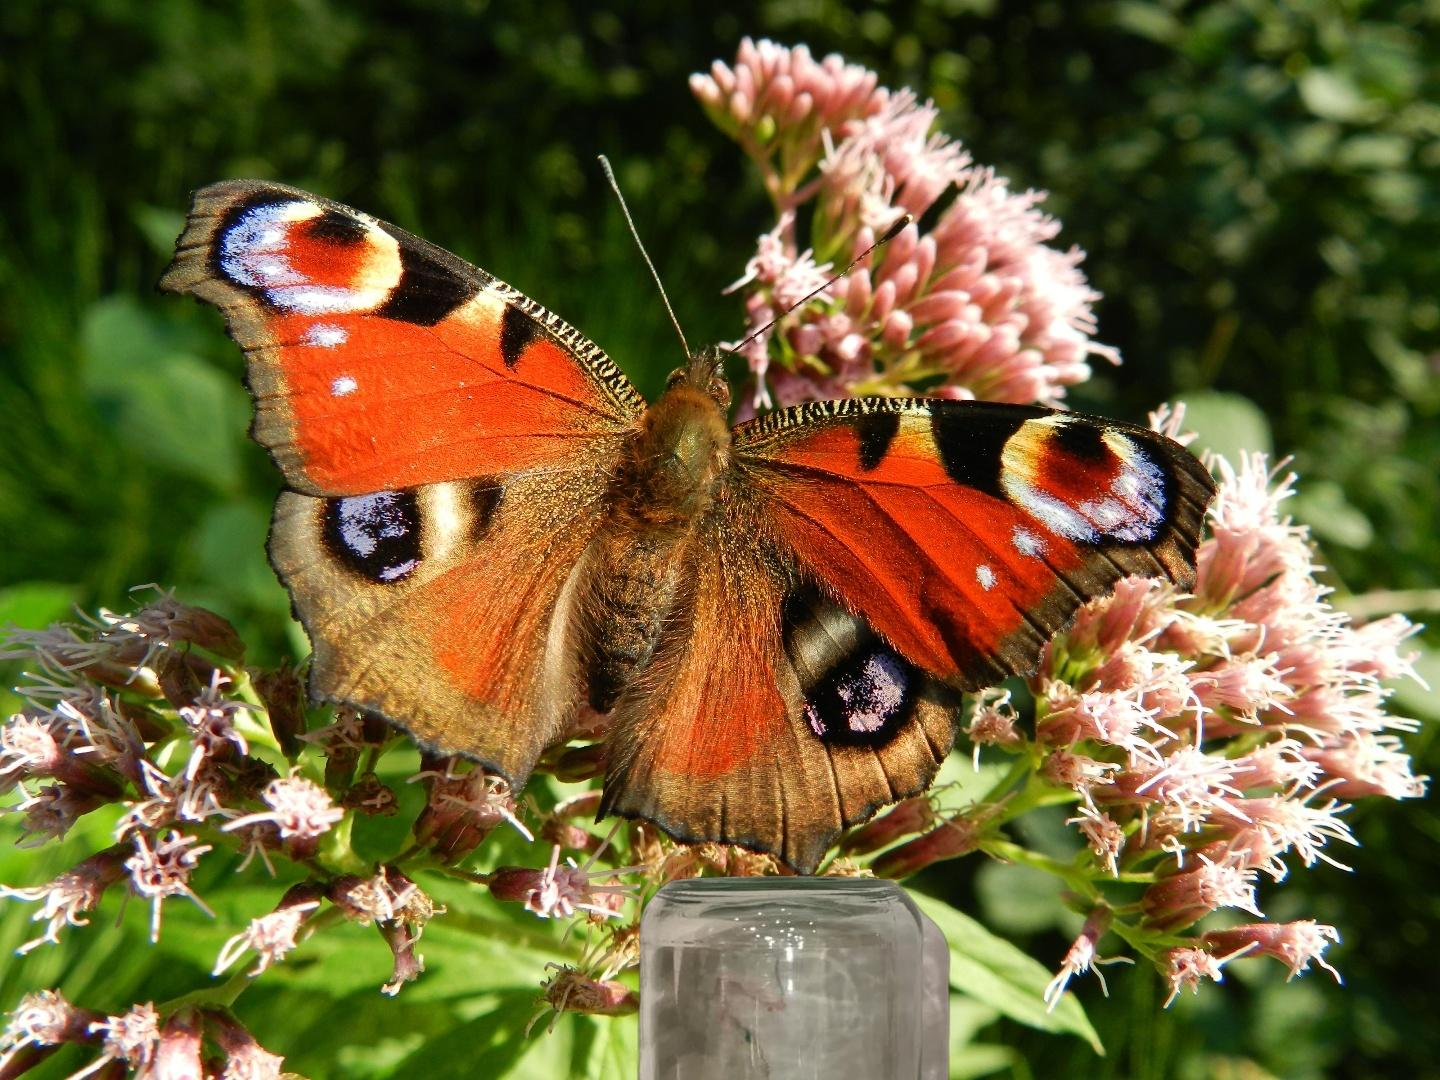glass: (634, 874, 955, 1080)
